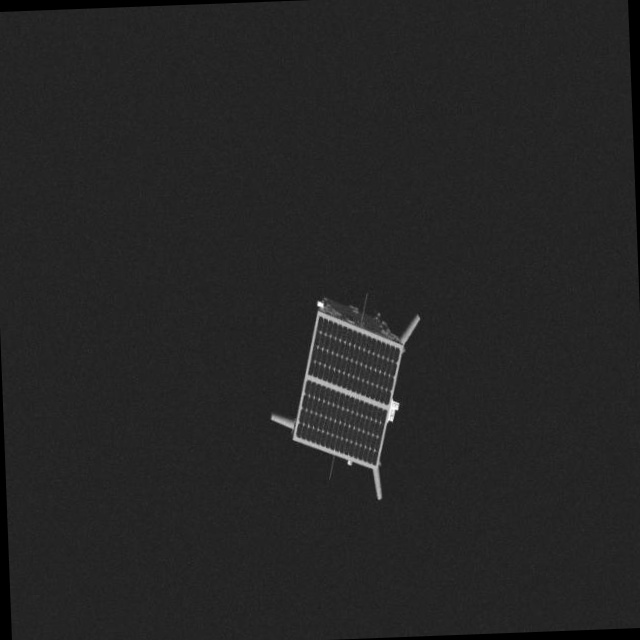satellite: (263, 276, 439, 506)
